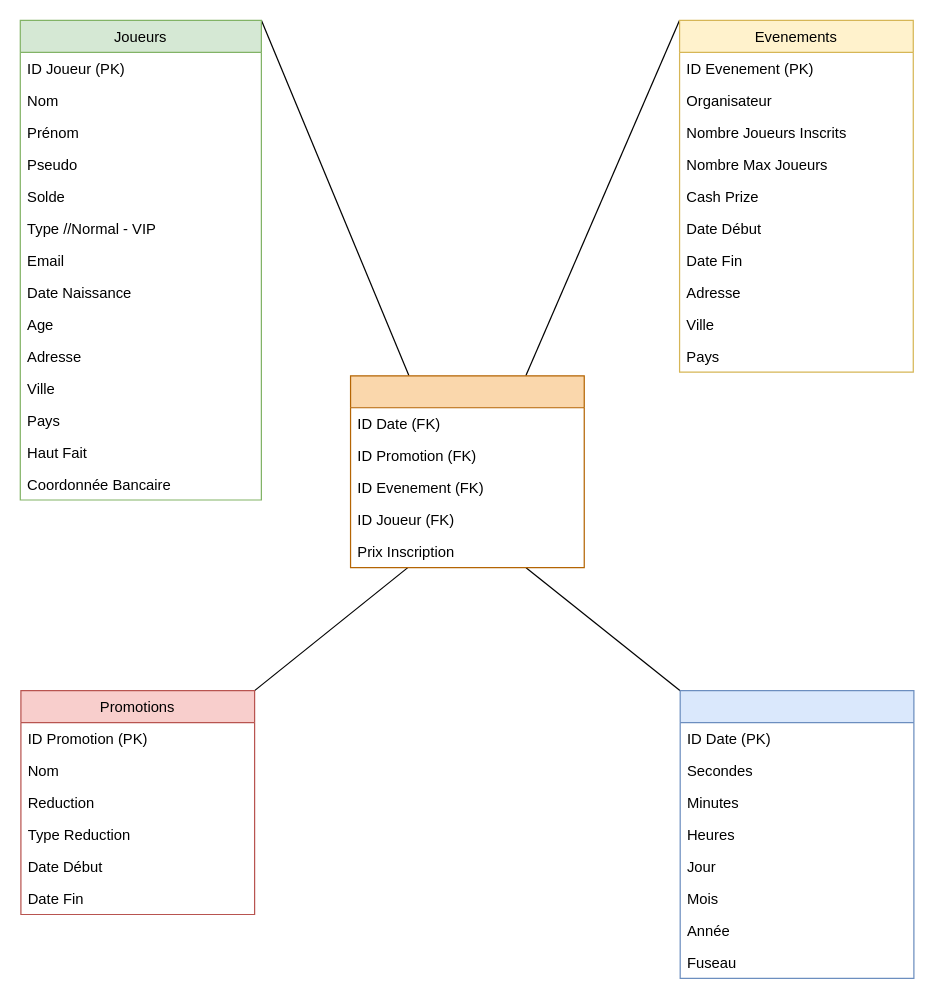
The diagram is 934 pixels wide and 999 high, and some of its shapes have lost their labels. The box of each missing label's shape, as (x1, y1, x2, y2) in pixels:
Dates: (679, 689, 914, 978)
Inscriptions: (349, 375, 584, 568)
